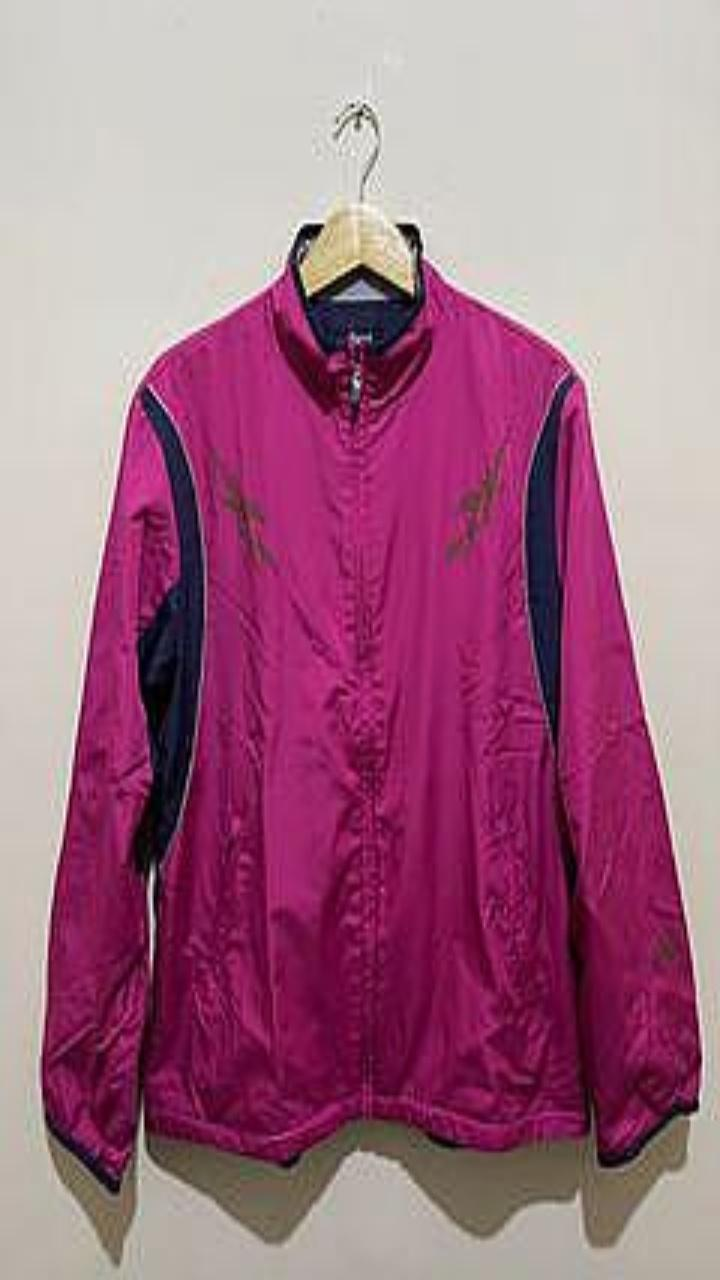Sports_Jacket: (41, 222, 700, 1191)
